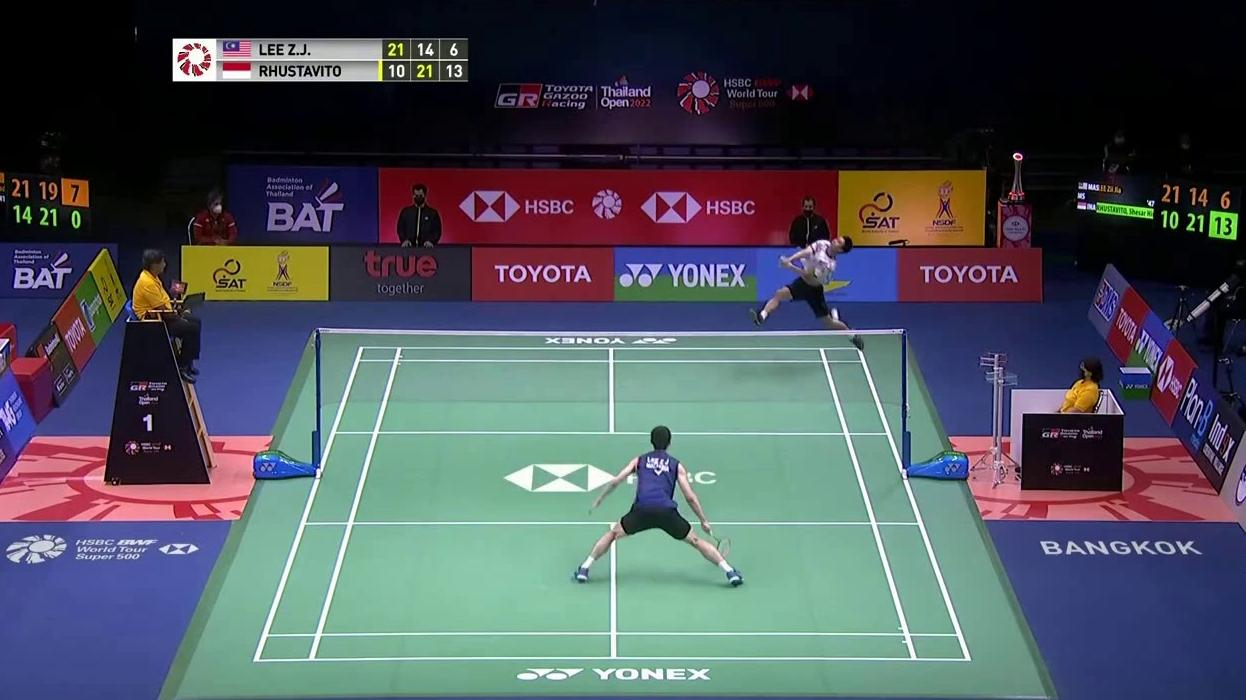racket: (769, 225, 789, 271), (705, 527, 732, 560)
shuttle: (830, 307, 840, 322)
